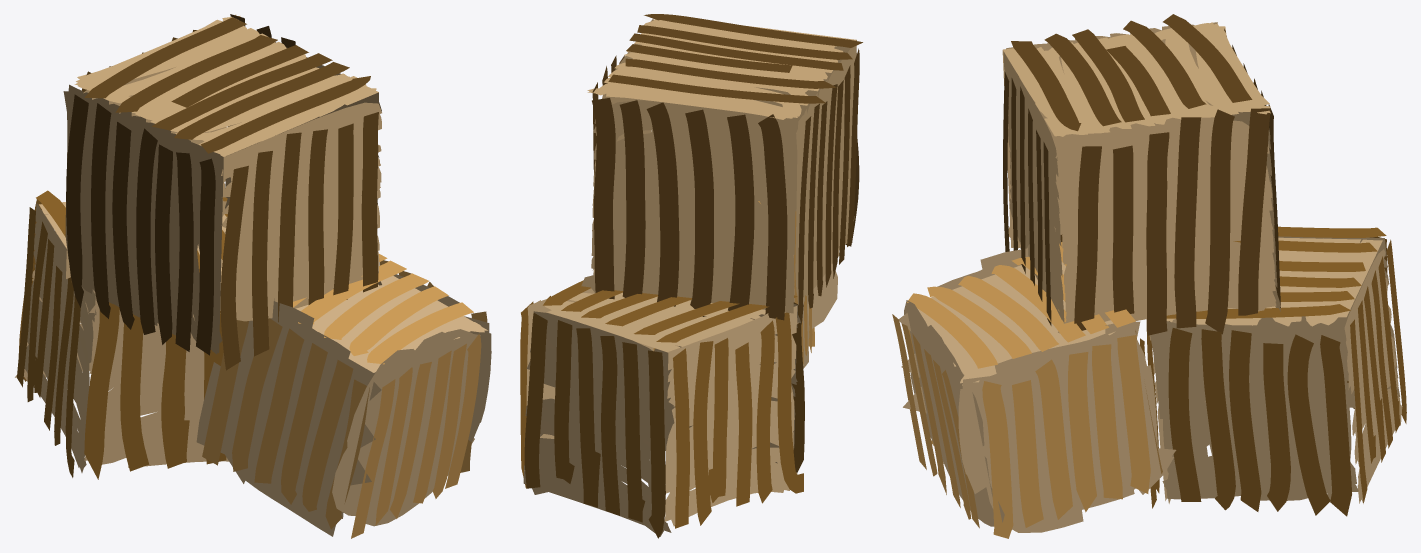
3 views of the same model, side by side, from view 1: azimuth 30°, elevation 25°; view 2: azimuth 150°, elevation 25°; view 3: azimuth 270°, elevation 25° (orthographic). The views are drawn at different scales.
Parts seen in each view (by area): view 1: Flat_geo; view 2: Flat_geo; view 3: Flat_geo.
Part boxes in pixels (<box>): Flat_geo: <box>15,14,491,538</box>; Flat_geo: <box>520,14,862,538</box>; Flat_geo: <box>892,14,1406,538</box>.
Size of the model in its own units: 0.9474 by 1.22 by 1.38.
